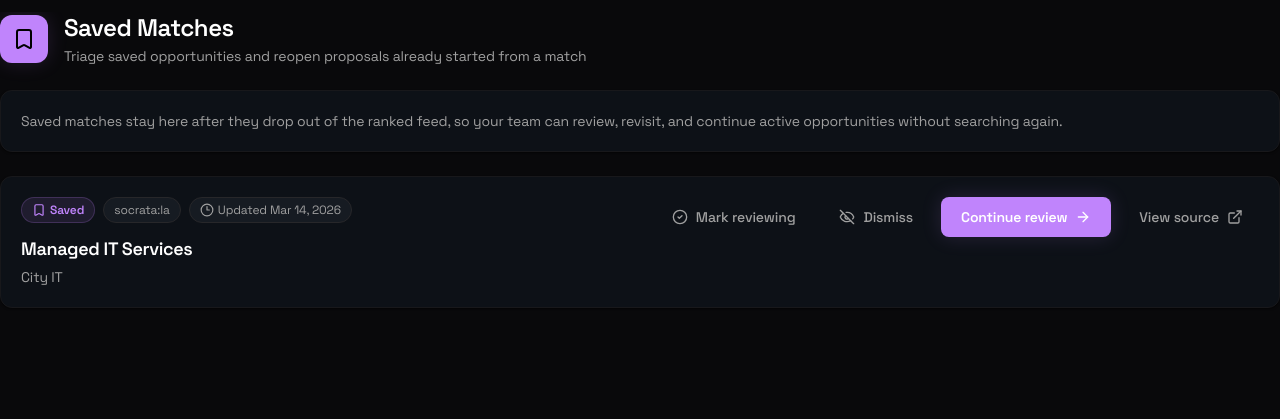
Scenario: SavedMatchesPage › removes a dismissed match from the inbox
expect the heading "Managed IT Services" is shown: met, box [21, 237, 192, 260]
Click the button "Dismiss" at coordinates (876, 217), box [824, 197, 929, 237]
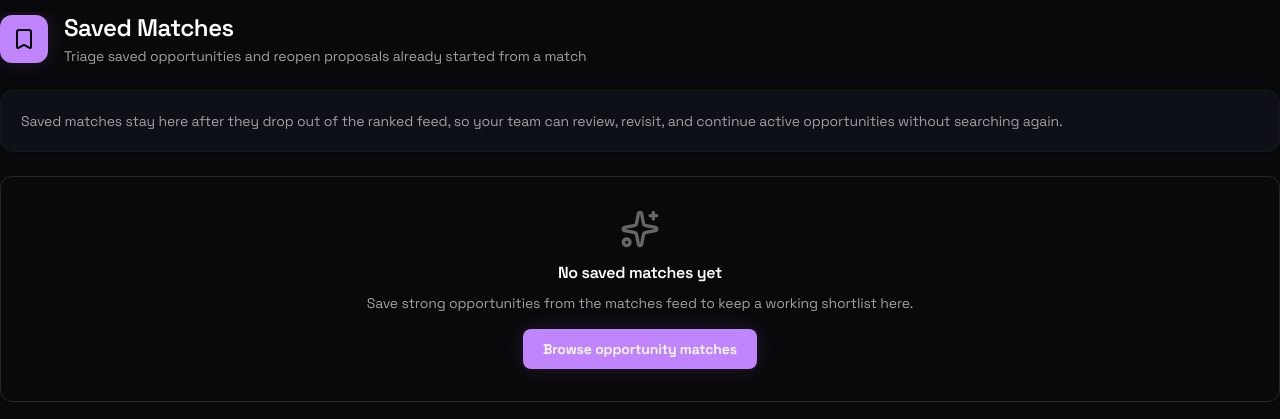
expect the heading "No saved matches yet" is shown: met, box [558, 262, 722, 283]
